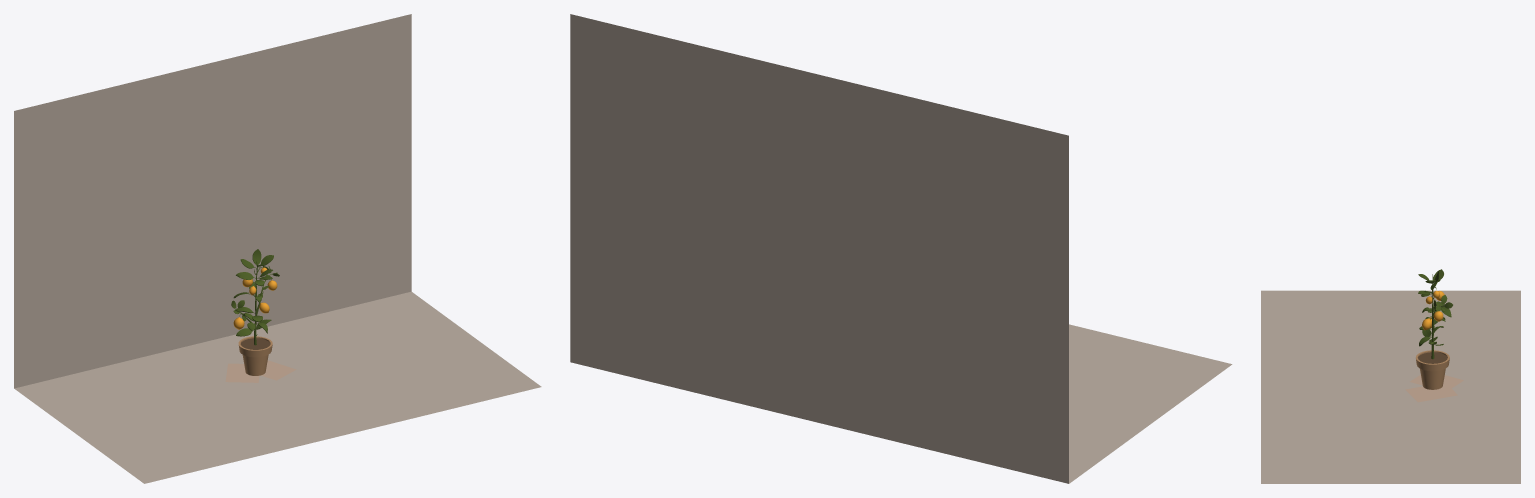
Rendered from indoor_plants_lemon_tree.glb.
The picture shows the model from 3 angles, left to right: view 1: azimuth 30°, elevation 25°; view 2: azimuth 150°, elevation 25°; view 3: azimuth 270°, elevation 25°; orthographic projection. The views are drawn at different scales.
Visible parts, largest first — view 1: Plane.043_1, Cylinder_3, Plane.034_2; view 2: Plane.043_1; view 3: Plane.043_1, Cylinder_3, Plane.034_2.
Part boxes in pixels (x1,y1,x2,y2): Plane.043_1: [14, 14, 541, 483]; Cylinder_3: [231, 249, 279, 375]; Plane.034_2: [225, 360, 296, 382]; Plane.043_1: [570, 14, 1232, 483]; Plane.043_1: [1261, 290, 1520, 483]; Cylinder_3: [1415, 269, 1452, 389]; Plane.034_2: [1405, 374, 1463, 402].
Bounding box in the file's own units: 39.55 × 26.39 × 22.46.
